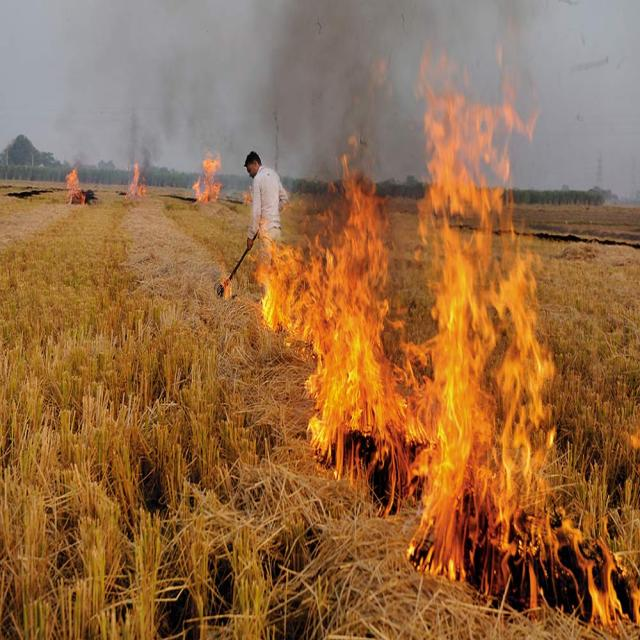fire: (418, 117, 549, 585), (294, 202, 406, 480)
